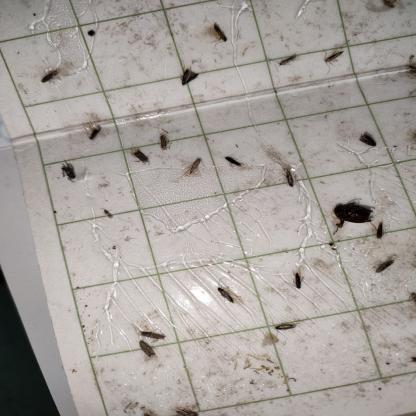prays_oleae: (318, 184, 376, 234), (209, 270, 242, 320), (364, 244, 401, 286), (266, 308, 305, 346), (174, 42, 200, 96), (353, 118, 381, 167), (270, 37, 302, 77), (85, 113, 107, 160), (136, 314, 169, 344), (35, 60, 62, 96), (129, 136, 150, 182), (326, 35, 344, 86), (54, 152, 78, 188), (208, 15, 232, 50), (133, 340, 161, 368), (186, 145, 204, 185), (280, 154, 296, 198), (290, 261, 309, 295), (225, 146, 245, 178), (156, 123, 170, 161), (369, 216, 389, 241)
